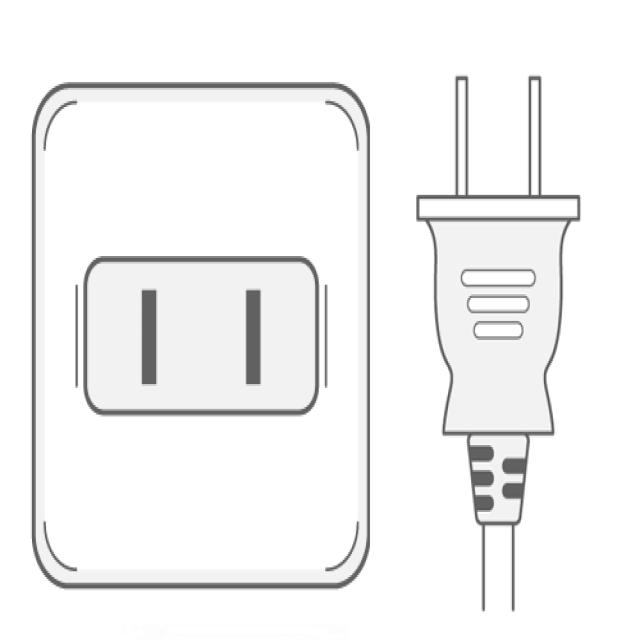type_a: (64, 232, 349, 452)
